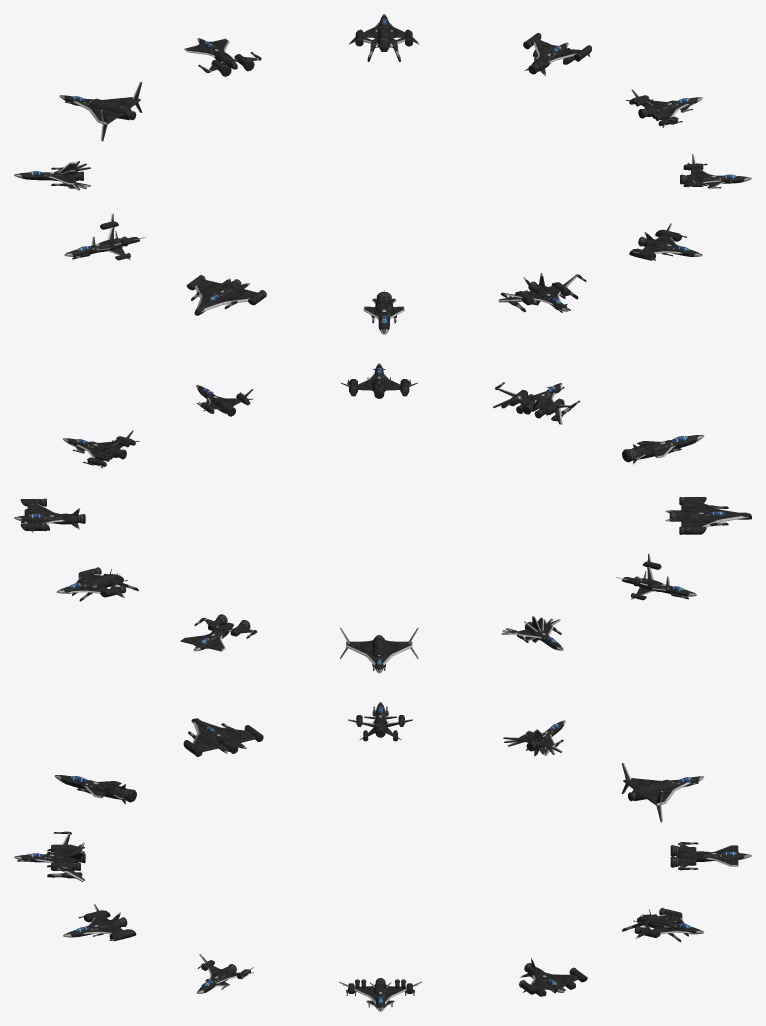
Rendered from wheel.glb.
3 renders of one model, top to bottom at view 1: azimuth 30°, elevation 25°; view 2: azimuth 150°, elevation 25°; view 3: azimuth 270°, elevation 25°, orthographic.
Visible parts, largest first — view 1: StarSparrow11_Mesh.100, StarSparrow08_Mesh.071, StarSparrow01_Mesh.012, StarSparrow06_Mesh.048, StarSparrow05_Mesh.039, StarSparrow07_Mesh.059, StarSparrow02_Mesh.001, StarSparrow04_Mesh.030, StarSparrow10_Mesh.089, StarSparrow09_Mesh.076, StarSparrow03_Mesh.021, StarSparrow12_Mesh.107; view 2: StarSparrow11_Mesh.100, StarSparrow01_Mesh.012, StarSparrow06_Mesh.048, StarSparrow05_Mesh.039, StarSparrow08_Mesh.071, StarSparrow07_Mesh.059, StarSparrow04_Mesh.030, StarSparrow12_Mesh.107, StarSparrow10_Mesh.089, StarSparrow02_Mesh.001, StarSparrow09_Mesh.076, StarSparrow03_Mesh.021; view 3: StarSparrow11_Mesh.100, StarSparrow01_Mesh.012, StarSparrow08_Mesh.071, StarSparrow07_Mesh.059, StarSparrow06_Mesh.048, StarSparrow05_Mesh.039, StarSparrow02_Mesh.001, StarSparrow04_Mesh.030, StarSparrow12_Mesh.107, StarSparrow09_Mesh.076, StarSparrow10_Mesh.089, StarSparrow03_Mesh.021.
Boxes of the visible parts, x1,y1,x2,y2 form: StarSparrow11_Mesh.100: (186,275,266,315); StarSparrow08_Mesh.071: (59,82,142,141); StarSparrow01_Mesh.012: (498,273,586,312); StarSparrow06_Mesh.048: (349,14,419,61); StarSparrow05_Mesh.039: (523,33,591,75); StarSparrow07_Mesh.059: (184,38,261,76); StarSparrow02_Mesh.001: (629,223,702,260); StarSparrow04_Mesh.030: (625,89,702,127); StarSparrow10_Mesh.089: (64,213,145,260); StarSparrow09_Mesh.076: (14,161,90,190); StarSparrow03_Mesh.021: (680,154,751,188); StarSparrow12_Mesh.107: (363,290,404,334); StarSparrow11_Mesh.100: (665,497,751,534); StarSparrow01_Mesh.012: (493,382,580,424); StarSparrow06_Mesh.048: (56,567,138,601); StarSparrow05_Mesh.039: (14,498,85,532); StarSparrow08_Mesh.071: (340,627,418,673); StarSparrow07_Mesh.059: (180,614,257,651); StarSparrow04_Mesh.030: (63,430,139,468); StarSparrow12_Mesh.107: (622,435,704,464); StarSparrow10_Mesh.089: (616,553,696,600); StarSparrow02_Mesh.001: (341,363,417,398); StarSparrow09_Mesh.076: (501,615,563,650); StarSparrow03_Mesh.021: (196,385,253,416); StarSparrow11_Mesh.100: (183,718,263,756); StarSparrow01_Mesh.012: (14,831,85,881); StarSparrow08_Mesh.071: (621,763,704,821); StarSparrow07_Mesh.059: (670,842,751,870); StarSparrow06_Mesh.048: (622,907,704,941); StarSparrow05_Mesh.039: (519,958,587,996); StarSparrow02_Mesh.001: (63,904,136,941); StarSparrow04_Mesh.030: (339,978,422,1011); StarSparrow12_Mesh.107: (54,775,136,804); StarSparrow09_Mesh.076: (503,720,565,756); StarSparrow10_Mesh.089: (348,702,412,741); StarSparrow03_Mesh.021: (196,954,253,993).
Size of the model in its own units: 111 by 5.14 by 112.
Materials: 1 (1 with a texture image).
